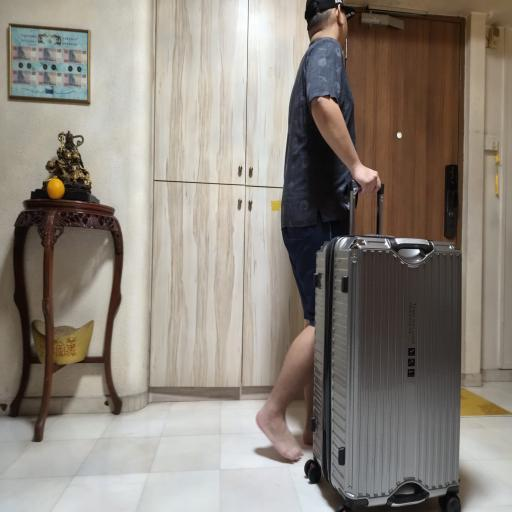person_right: (259, 0, 467, 512)
